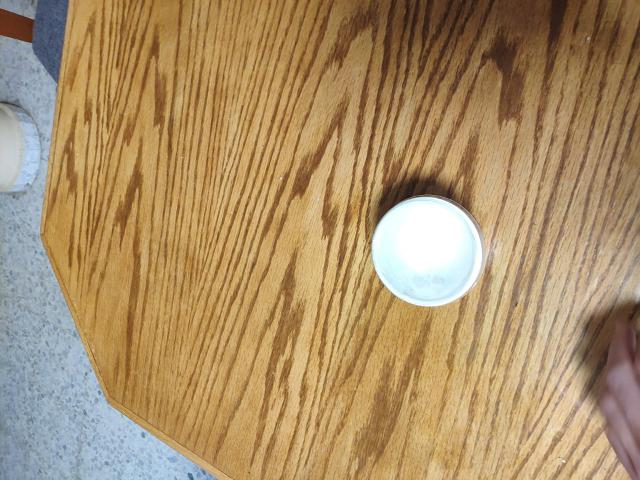cotage: (361, 199, 504, 324)
